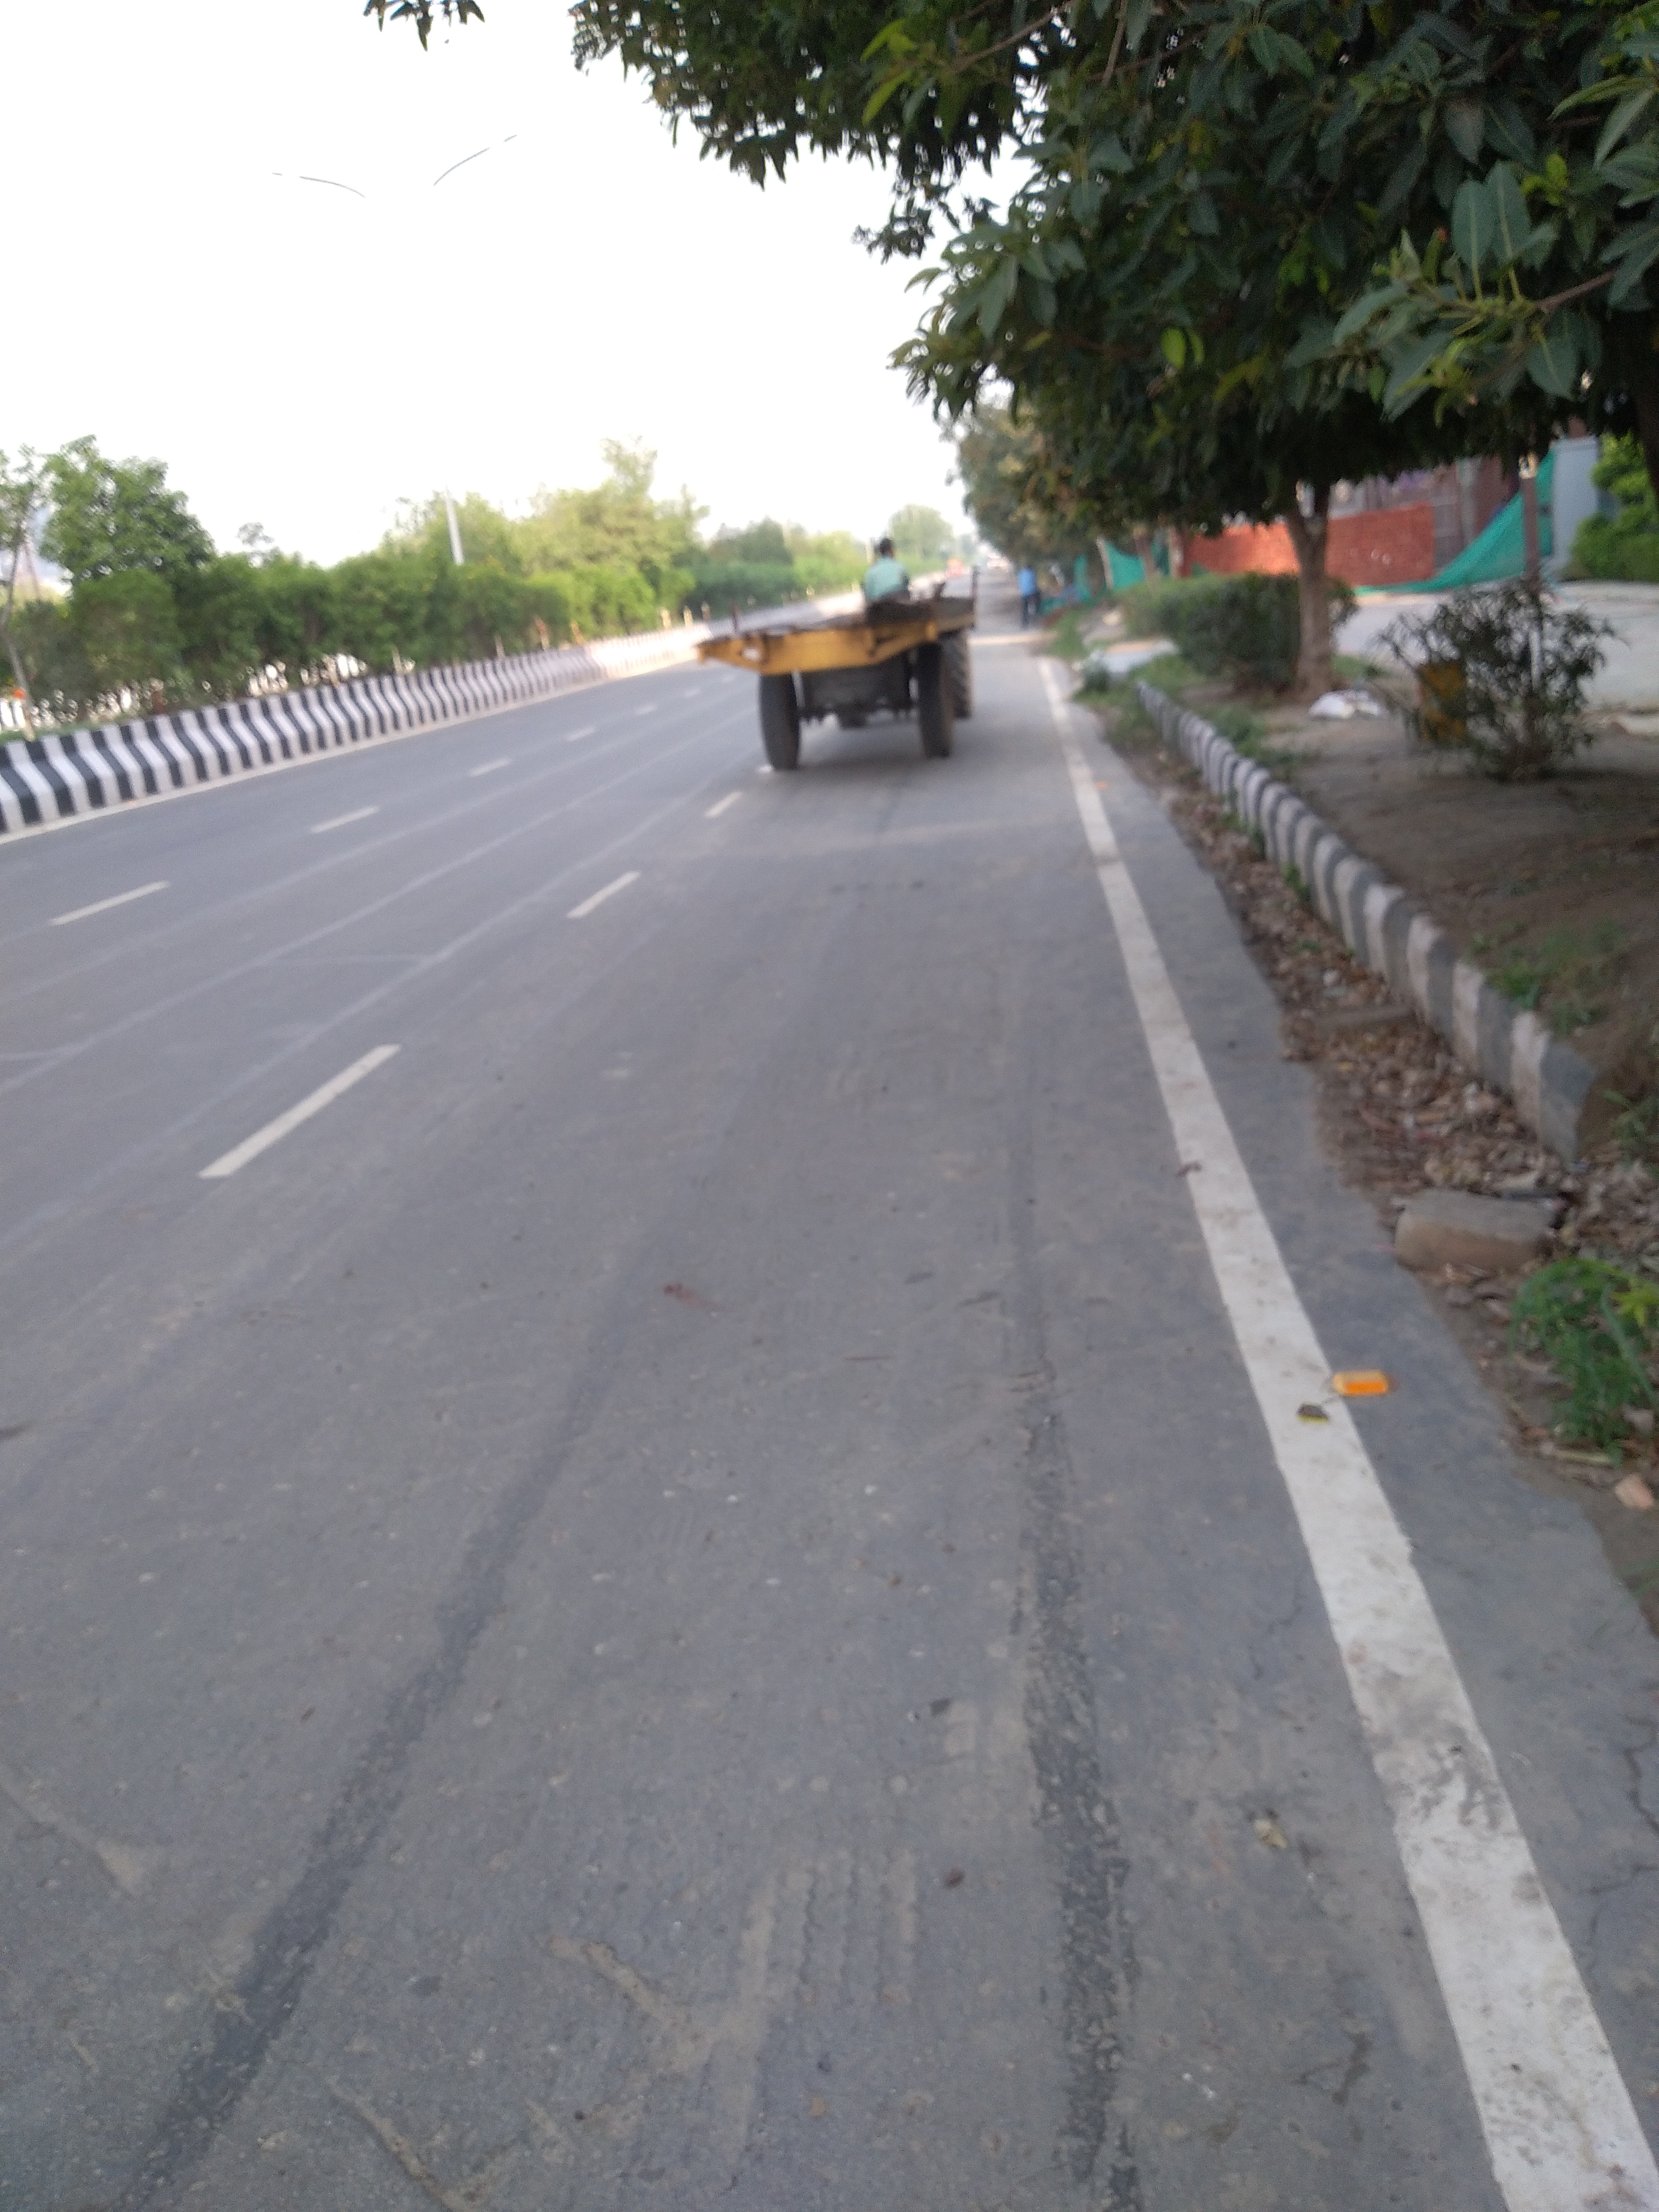tractor: (688, 561, 981, 773)
